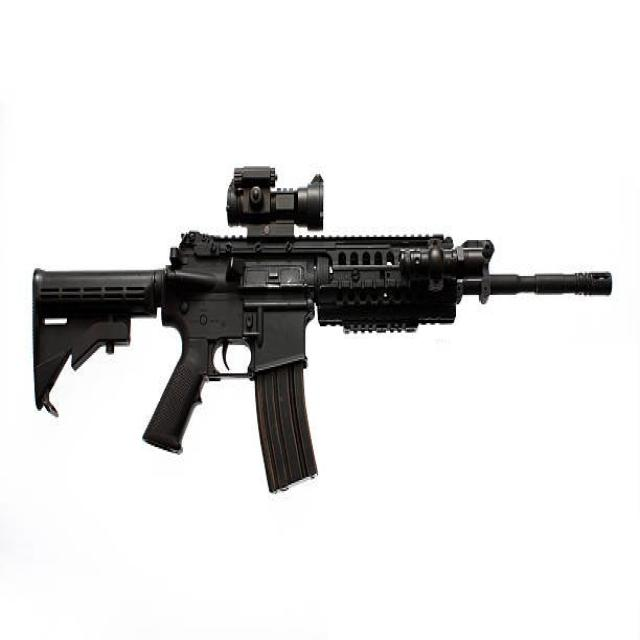rifle: (24, 155, 618, 512)
